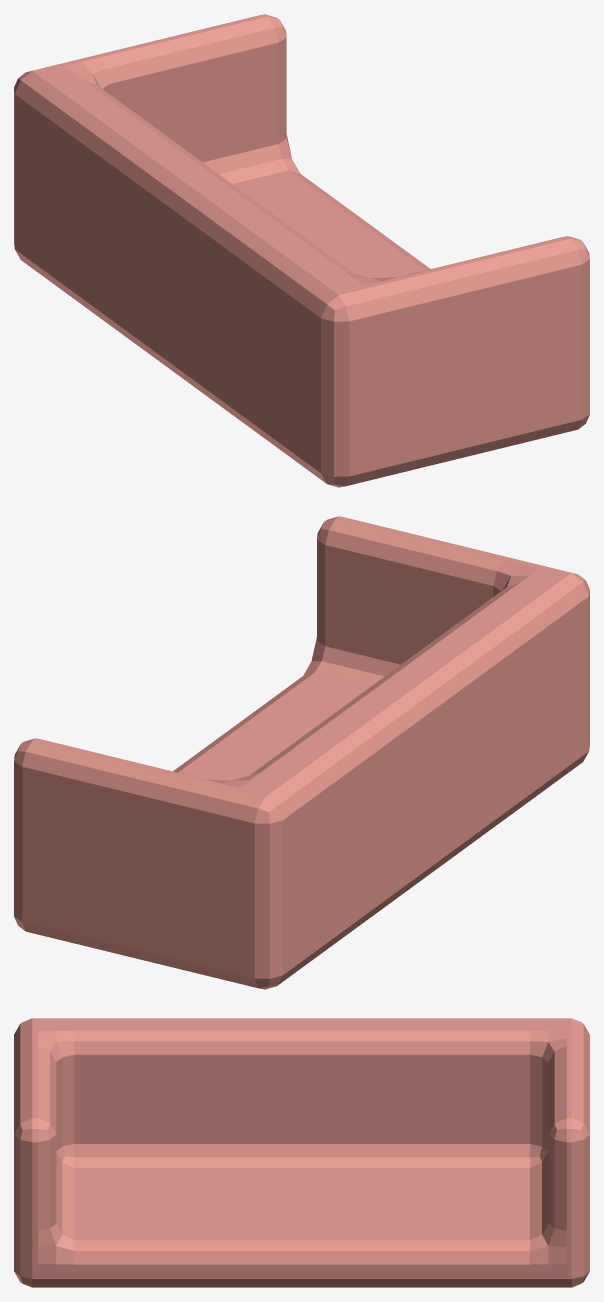
Rendered from couch.gltf.
The picture shows the model from 3 angles, top to bottom: view 1: azimuth 30°, elevation 25°; view 2: azimuth 150°, elevation 25°; view 3: azimuth 270°, elevation 25°; orthographic projection. The views are drawn at different scales.
Parts seen in each view (by area): view 1: couch; view 2: couch; view 3: couch.
Boxes of the visible parts, x1=… form: couch: x1=14, y1=14, x2=589, y2=487; couch: x1=14, y1=516, x2=589, y2=989; couch: x1=14, y1=1018, x2=589, y2=1287.
Size of the model in its own units: 0.9 by 0.6172 by 1.9.
